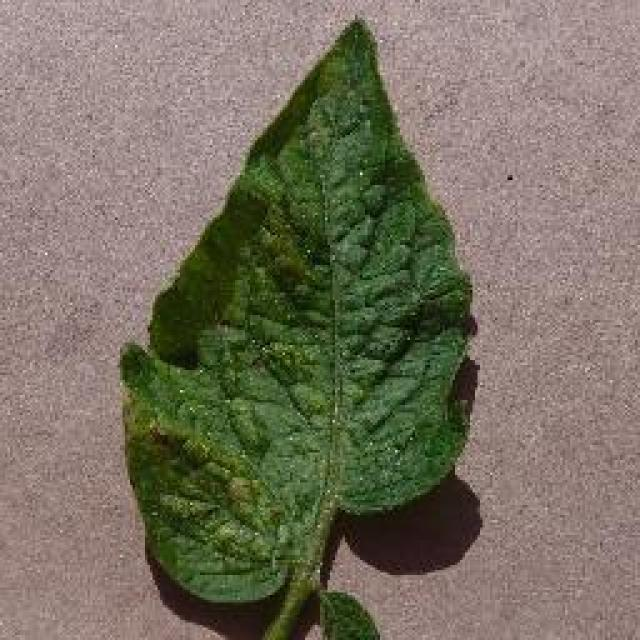Tomato___Spider_mites Two-spotted_spider_mite: (120, 22, 468, 638)
